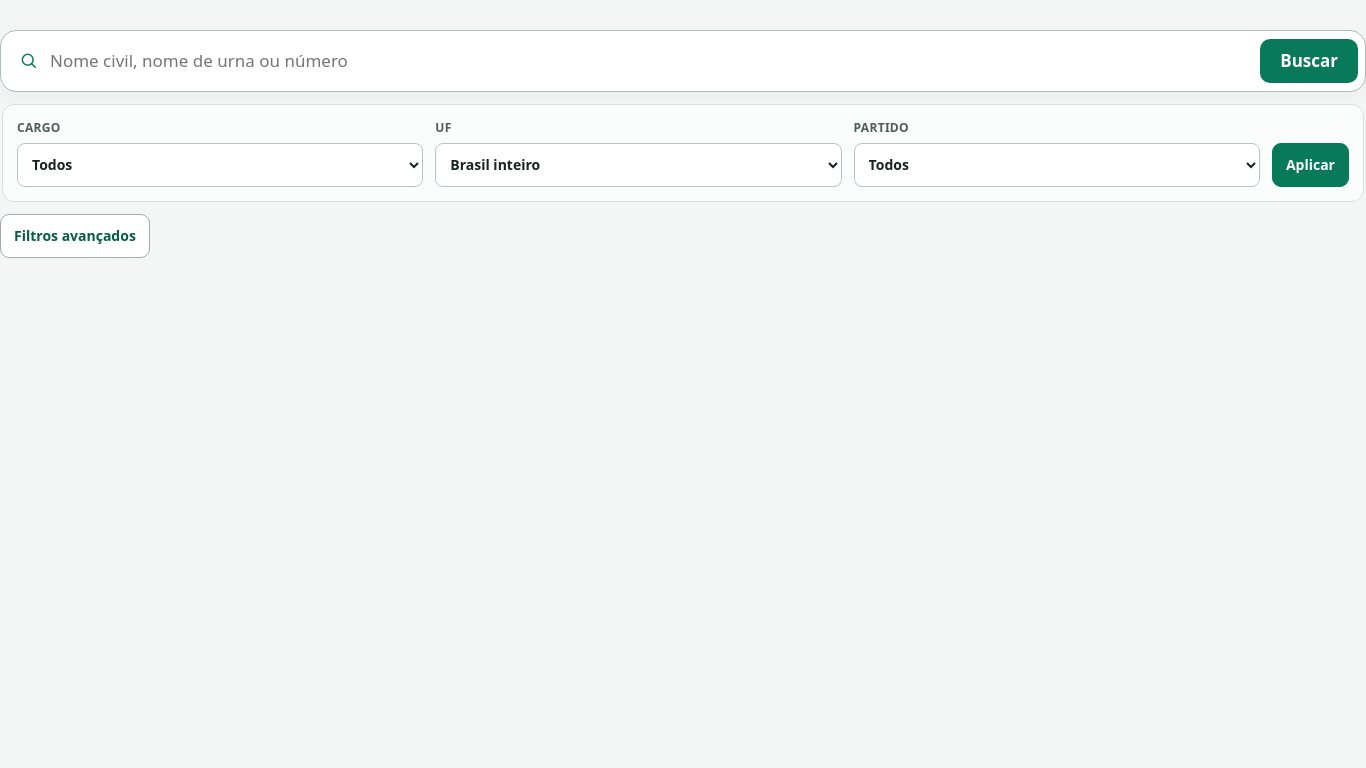
Test: candidate catalog › exposes every supported advanced group with explicit accessible labels
Click the button "Filtros avançados".
click(75, 236)  # box [0,214,150,258]
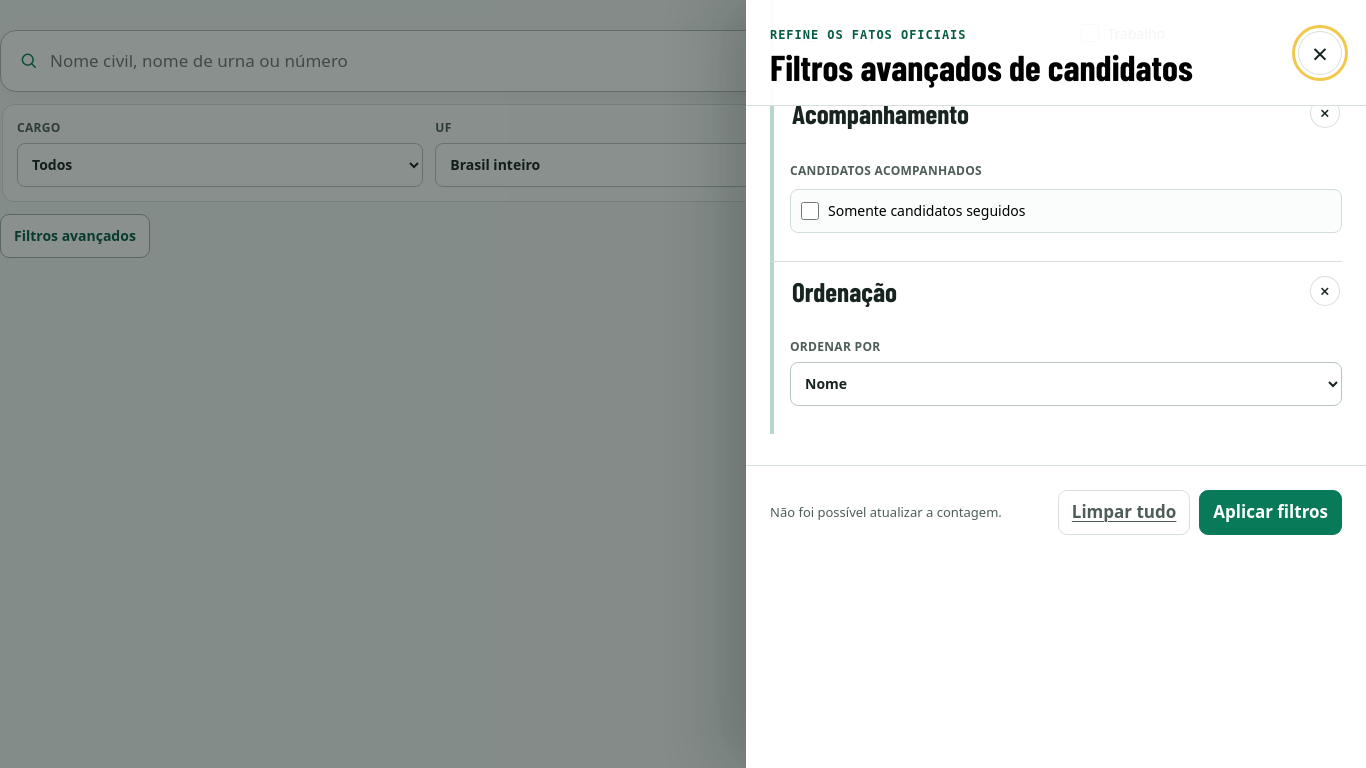
expect the element "Acompanhamento" is shown: met, box [770,84,1342,262]
expect the element "Ordenação" is shown: met, box [770,262,1342,434]
